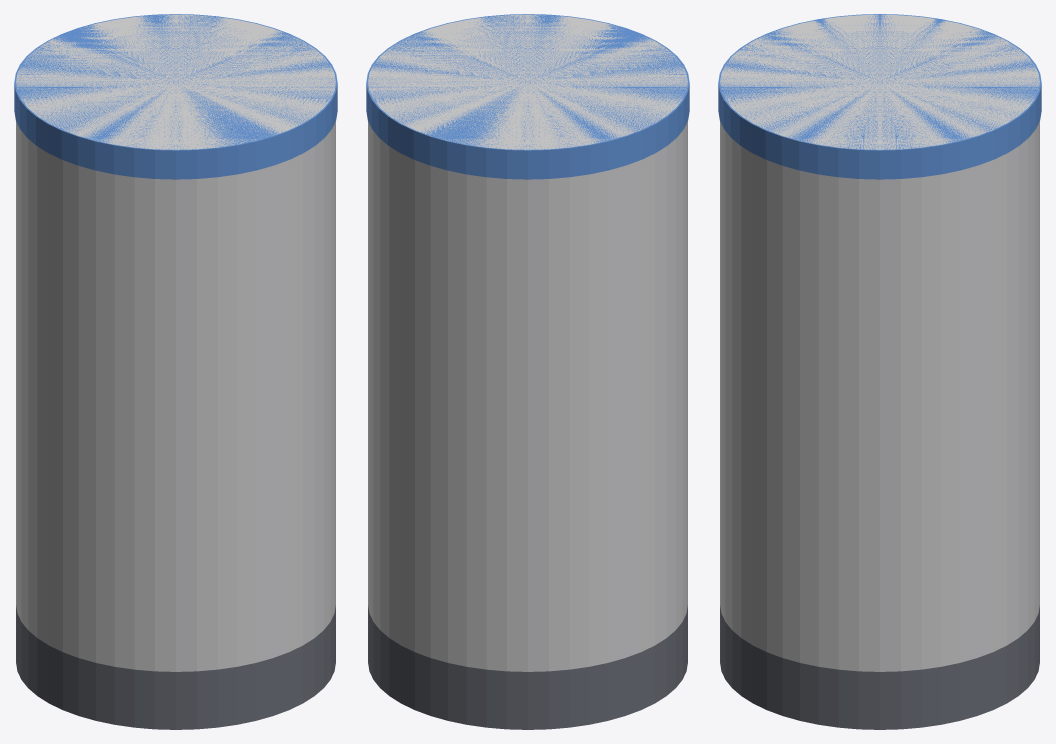
The model's file is stage2_long.glb.
3 renders of one model, left to right at view 1: azimuth 30°, elevation 25°; view 2: azimuth 150°, elevation 25°; view 3: azimuth 270°, elevation 25°, orthographic.
Visible parts, largest first — view 1: stage2_long_1, stage2_long_2, stage2_long_0; view 2: stage2_long_1, stage2_long_2, stage2_long_0; view 3: stage2_long_1, stage2_long_2, stage2_long_0.
Part boxes in pixels (<box>): stage2_long_1: <box>16,14,335,671</box>; stage2_long_2: <box>14,14,337,179</box>; stage2_long_0: <box>16,606,335,729</box>; stage2_long_1: <box>368,14,687,671</box>; stage2_long_2: <box>366,14,689,179</box>; stage2_long_0: <box>368,606,687,729</box>; stage2_long_1: <box>720,14,1039,671</box>; stage2_long_2: <box>718,14,1041,179</box>; stage2_long_0: <box>720,606,1039,729</box>.
Bounding box in the file's own units: 2.02 × 4 × 2.02.
